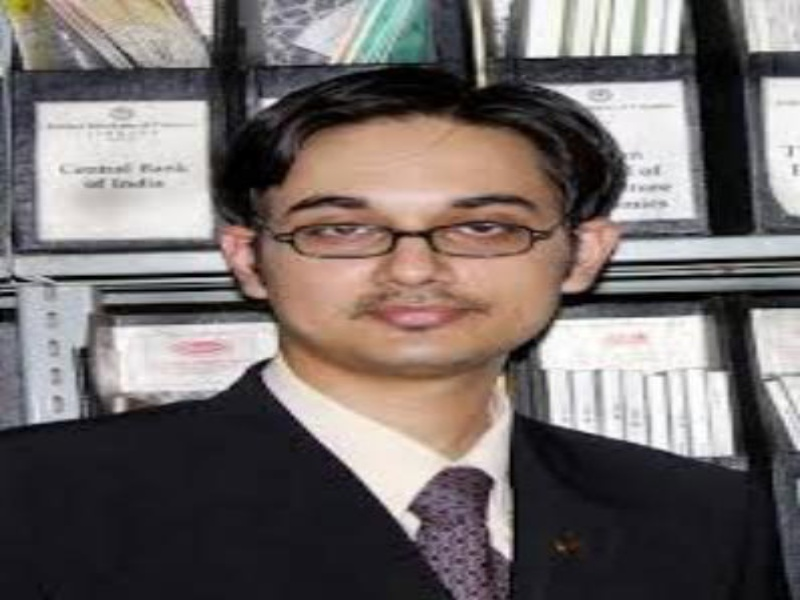TsisyArotava: (218, 38, 627, 408)
